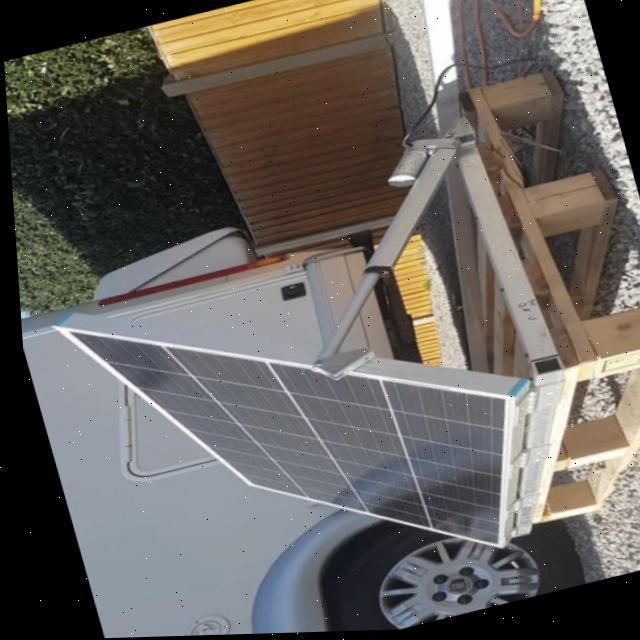Normal Solar Panel: (57, 228, 547, 632)
